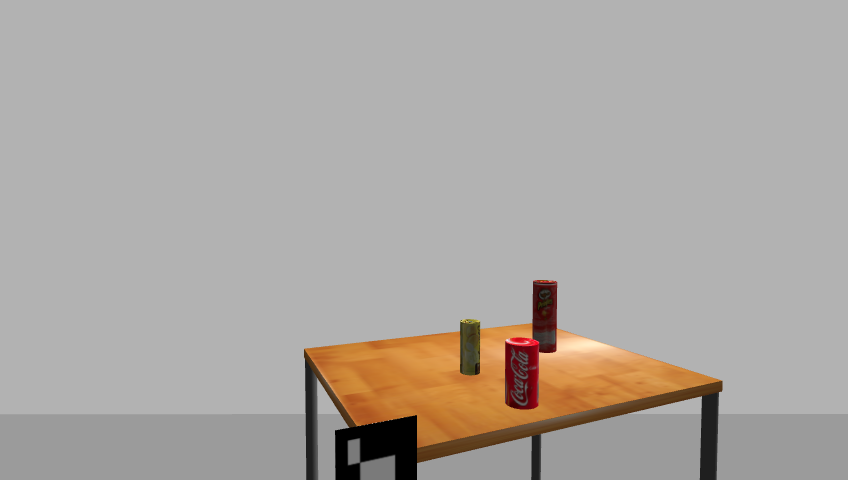aruco marker: (328, 415, 422, 480)
biscuits pack: (458, 319, 482, 377)
coke can: (504, 337, 540, 410)
dinner table: (294, 326, 731, 480)
pringles can: (530, 279, 560, 355)
